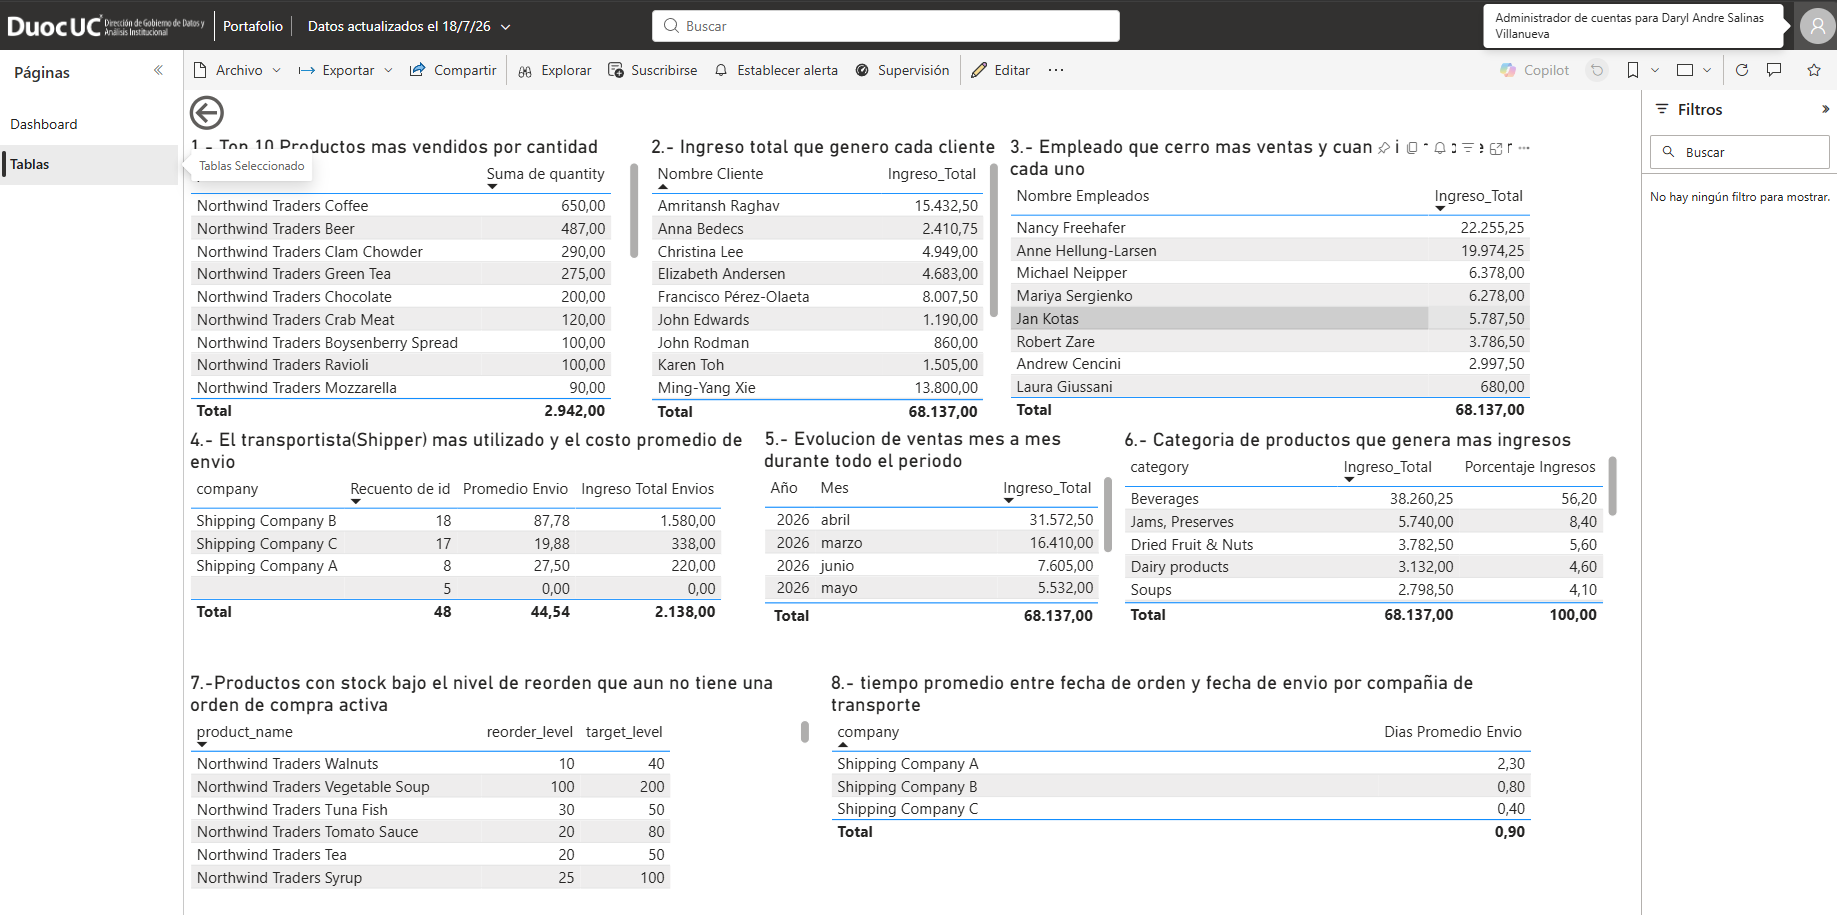

The dashboard page shown, as its layout file describes it:
{"tool":"powerbi","page":{"name":"Tablas","canvas":[1280,720],"ordinal":1},"visuals":[{"type":"tableEx","title":"1.- Top 10 Productos mas vendidos por cantidad","fields":{"Values":["products.product_name","Sum(order_details.quantity)"]},"box":[0,39.9,404.7,255.8],"z":0},{"type":"actionButton","box":[0,0,100,40],"z":1000},{"type":"tableEx","title":"2.- Ingreso total que genero cada cliente","fields":{"Values":["customers.Nombre Cliente","_Medidas.Ingreso_Total"]},"box":[404.6,39.9,316.1,256.8],"z":2000},{"type":"tableEx","title":"3.- Empleado que cerro mas ventas y cuanto ingreso genero cada uno","fields":{"Values":["employees.Nombre Cliente","_Medidas.Ingreso_Total"]},"box":[720.7,39.9,467.8,256.8],"z":3000},{"type":"tableEx","title":"4.- El transportista(Shipper) mas utilizado y el costo promedio de envio","fields":{"Values":["shippers.company","orders.id","_Medidas.Promedio Envio","_Medidas.Ingreso Total Envios"]},"box":[0,296.7,503.8,178],"z":4000},{"type":"tableEx","title":"5.- Evolucion de ventas mes a mes durante todo el periodo","fields":{"Values":["Calendario.Date.Variación.Jerarquía de fechas.Año","Calendario.Date.Variación.Jerarquía de fechas.Mes","_Medidas.Ingreso_Total"]},"box":[503.8,295.7,317.1,179],"z":5000},{"type":"tableEx","title":"6.- Categoria de productos que genera mas ingresos","fields":{"Values":["products.category","_Medidas.Ingreso_Total","_Medidas.Porcentaje Ingresos"]},"box":[820.9,296.7,444.5,178],"z":6000},{"type":"tableEx","title":"7.-Productos con stock bajo el nivel de reorden que aun no tiene una orden de compra activa","fields":{"Values":["products.product_name","products.reorder_level","products.target_level"]},"box":[0,510.6,555.4,201.3],"z":7000},{"type":"tableEx","title":"8.- tiempo promedio entre fecha de orden y fecha de envio por compañia de transporte","fields":{"Values":["shippers.company","Calendario.Dias Promedio Envio"]},"box":[563.2,510.6,630.3,201.3],"z":8000}]}

Visuals, with their boxes on the page's 1280x720 design canvas (x1, y1, x2, y2). These are canvas units, not pixel positions in the 1837x915 screenshot, which may show the page scaled, cropped or inside an application window:
"1.- Top 10 Productos mas vendidos por cantidad" tableEx: 0,40,405,296
actionButton: 0,0,100,40
"2.- Ingreso total que genero cada cliente" tableEx: 405,40,721,297
"3.- Empleado que cerro mas ventas y cuanto ingreso genero cada uno" tableEx: 721,40,1188,297
"4.- El transportista(Shipper) mas utilizado y el costo promedio de envio" tableEx: 0,297,504,475
"5.- Evolucion de ventas mes a mes durante todo el periodo" tableEx: 504,296,821,475
"6.- Categoria de productos que genera mas ingresos" tableEx: 821,297,1265,475
"7.-Productos con stock bajo el nivel de reorden que aun no tiene una orden de compra activa" tableEx: 0,511,555,712
"8.- tiempo promedio entre fecha de orden y fecha de envio por compañia de transporte" tableEx: 563,511,1194,712
